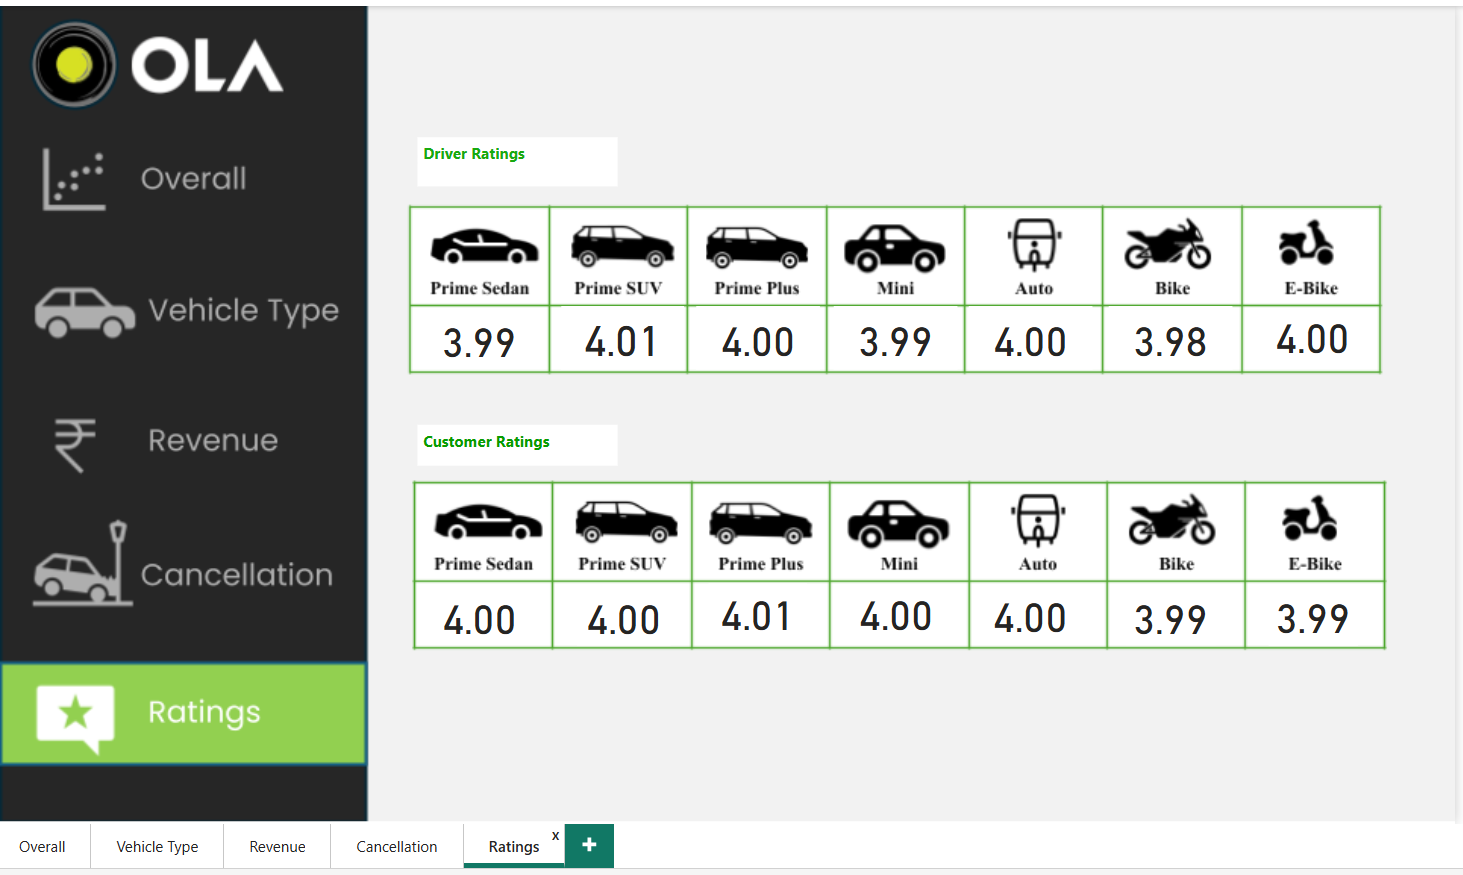

Layout of this report page (visuals, bound fields, positions):
{"tool":"powerbi","page":{"name":"Ratings","canvas":[1280,720],"ordinal":4},"visuals":[{"type":"actionButton","box":[0,234.7,327.1,66.8],"z":0},{"type":"actionButton","box":[0,349.9,327.1,74],"z":1},{"type":"actionButton","box":[0,450.8,327.1,89.6],"z":2},{"type":"actionButton","box":[0,115.2,327.1,71.1],"z":3},{"type":"card","fields":{"Values":["Avg(July.Driver_Ratings)"]},"box":[975.9,264.1,109,55.7],"z":4},{"type":"card","fields":{"Values":["Avg(July.Driver_Ratings)"]},"box":[493.9,264.1,107.8,55.7],"z":5},{"type":"card","fields":{"Values":["Avg(July.Driver_Ratings)"]},"box":[612.3,264.1,109,55.7],"z":6},{"type":"card","fields":{"Values":["Avg(July.Driver_Ratings)"]},"box":[733.1,264.1,109,55.7],"z":7},{"type":"card","fields":{"Values":["Avg(July.Driver_Ratings)"]},"box":[852.7,264.1,109,55.7],"z":8},{"type":"card","fields":{"Values":["Avg(July.Driver_Ratings)"]},"box":[367.3,267.2,108.9,51.7],"z":9},{"type":"card","fields":{"Values":["Avg(July.Driver_Ratings)"]},"box":[1099,267.7,110.1,43.8],"z":10},{"type":"card","fields":{"Values":["Avg(July.Customer_Rating)"]},"box":[622.9,508.1,86.5,50.9],"z":11},{"type":"card","fields":{"Values":["Avg(July.Customer_Rating)"]},"box":[748.5,509.3,79.3,47.4],"z":12},{"type":"card","fields":{"Values":["Avg(July.Customer_Rating)"]},"box":[862.2,509.3,88.8,52.1],"z":13},{"type":"card","fields":{"Values":["Avg(July.Customer_Rating)"]},"box":[991.3,510.4,78.2,52.1],"z":14},{"type":"card","fields":{"Values":["Avg(July.Customer_Rating)"]},"box":[1115.6,509.3,78.2,53.3],"z":15},{"type":"card","fields":{"Values":["Avg(July.Customer_Rating)"]},"box":[508.1,511.6,81.7,50.9],"z":16},{"type":"card","fields":{"Values":["Avg(July.Customer_Rating)"]},"box":[377.8,512.8,87.6,48.6],"z":17},{"type":"textbox","box":[367.3,115.5,175.9,42.9],"z":18},{"type":"textbox","box":[367.3,368.4,175.9,36.3],"z":19}]}

Visuals, with their boxes on the page's 1280x720 design canvas (x1, y1, x2, y2). These are canvas units, not pixel positions in the 1463x875 screenshot, which may show the page scaled, cropped or inside an application window:
actionButton: [x1=0, y1=235, x2=327, y2=302]
actionButton: [x1=0, y1=350, x2=327, y2=424]
actionButton: [x1=0, y1=451, x2=327, y2=540]
actionButton: [x1=0, y1=115, x2=327, y2=186]
card - Avg(July.Driver_Ratings): [x1=976, y1=264, x2=1085, y2=320]
card - Avg(July.Driver_Ratings): [x1=494, y1=264, x2=602, y2=320]
card - Avg(July.Driver_Ratings): [x1=612, y1=264, x2=721, y2=320]
card - Avg(July.Driver_Ratings): [x1=733, y1=264, x2=842, y2=320]
card - Avg(July.Driver_Ratings): [x1=853, y1=264, x2=962, y2=320]
card - Avg(July.Driver_Ratings): [x1=367, y1=267, x2=476, y2=319]
card - Avg(July.Driver_Ratings): [x1=1099, y1=268, x2=1209, y2=312]
card - Avg(July.Customer_Rating): [x1=623, y1=508, x2=709, y2=559]
card - Avg(July.Customer_Rating): [x1=748, y1=509, x2=828, y2=557]
card - Avg(July.Customer_Rating): [x1=862, y1=509, x2=951, y2=561]
card - Avg(July.Customer_Rating): [x1=991, y1=510, x2=1070, y2=562]
card - Avg(July.Customer_Rating): [x1=1116, y1=509, x2=1194, y2=563]
card - Avg(July.Customer_Rating): [x1=508, y1=512, x2=590, y2=562]
card - Avg(July.Customer_Rating): [x1=378, y1=513, x2=465, y2=561]
textbox: [x1=367, y1=116, x2=543, y2=158]
textbox: [x1=367, y1=368, x2=543, y2=405]
